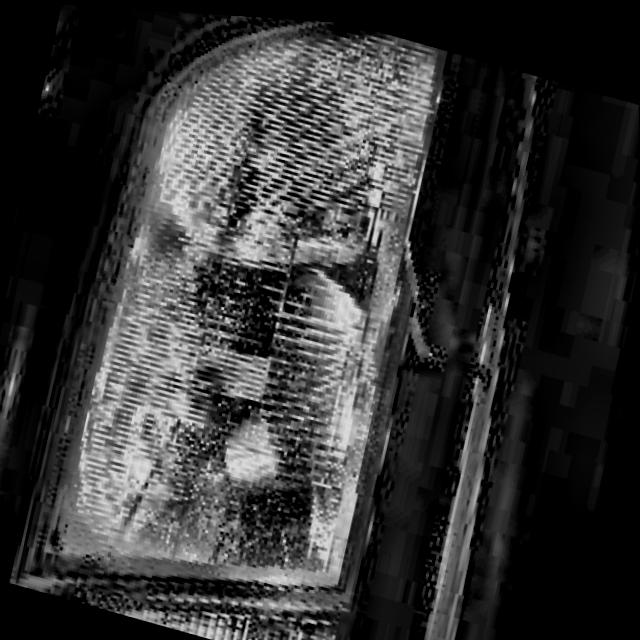head_lamp: (60, 43, 455, 640)
